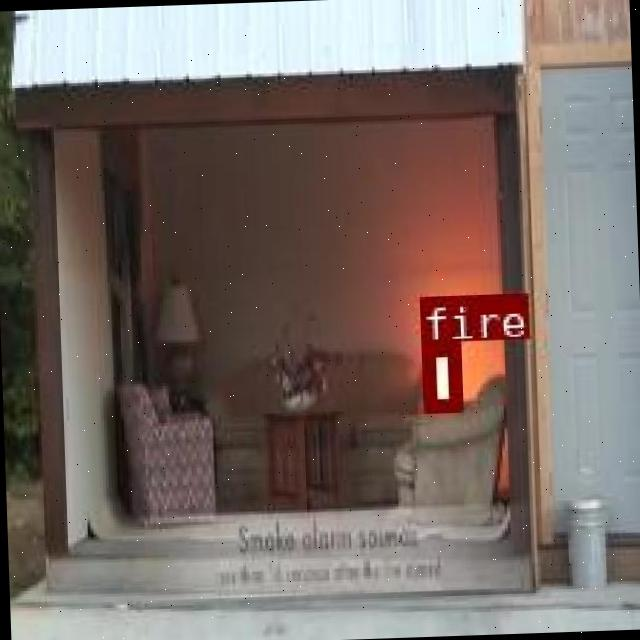fire: (421, 339, 458, 408)
